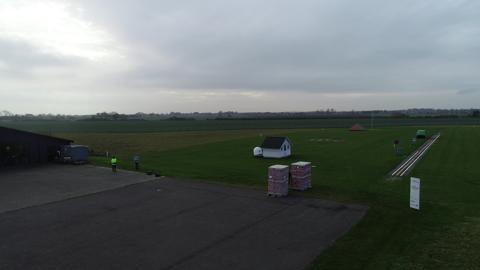RockwoolPallet: (291, 159, 311, 190)
